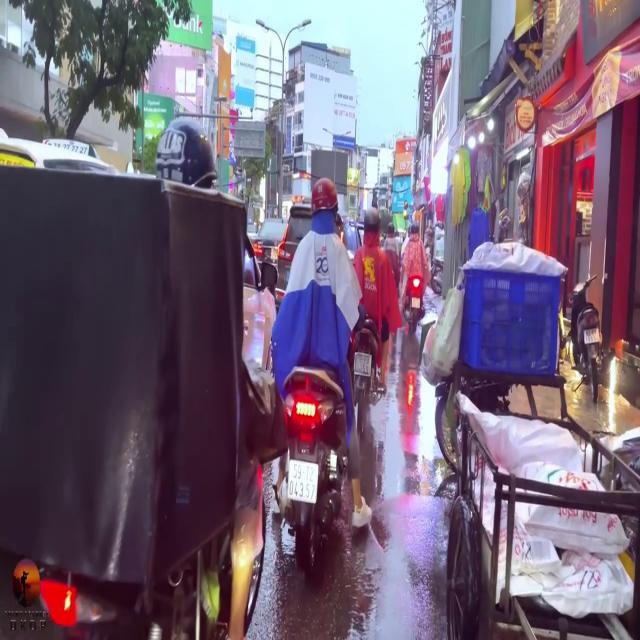bien_trang: (287, 455, 322, 510)
